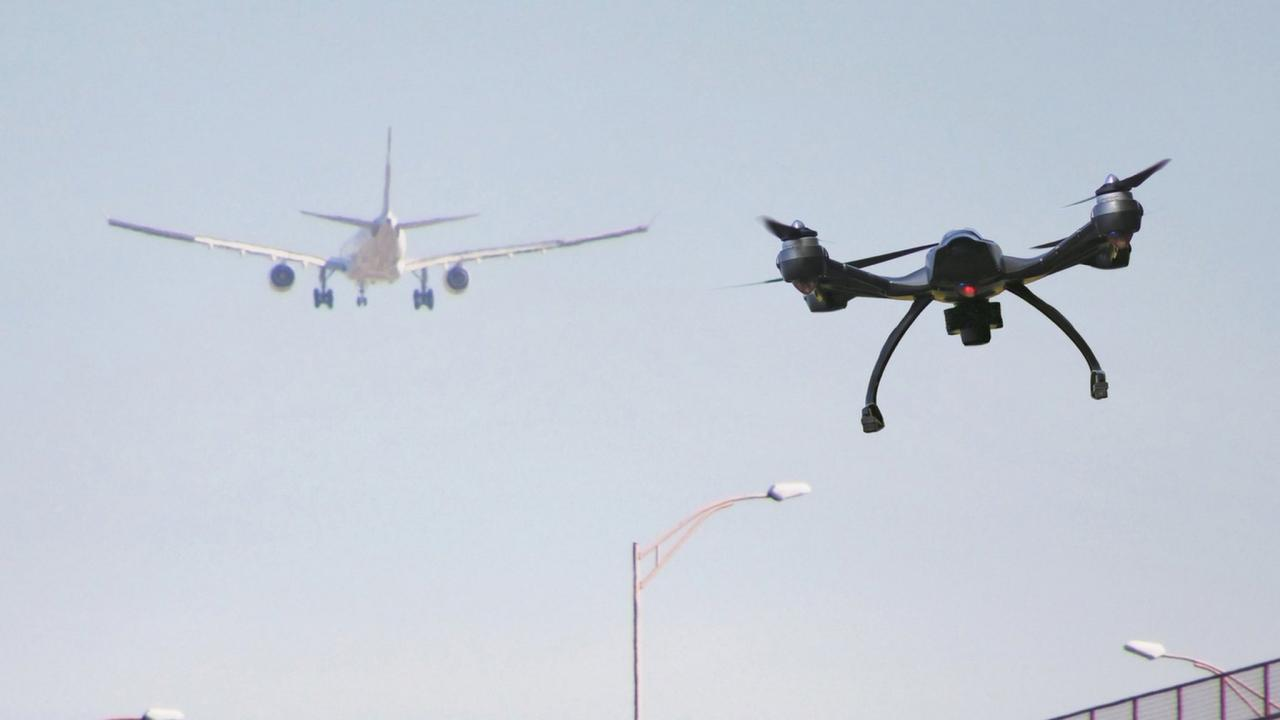Airplane: (81, 109, 683, 332)
Drone: (712, 142, 1185, 447)
